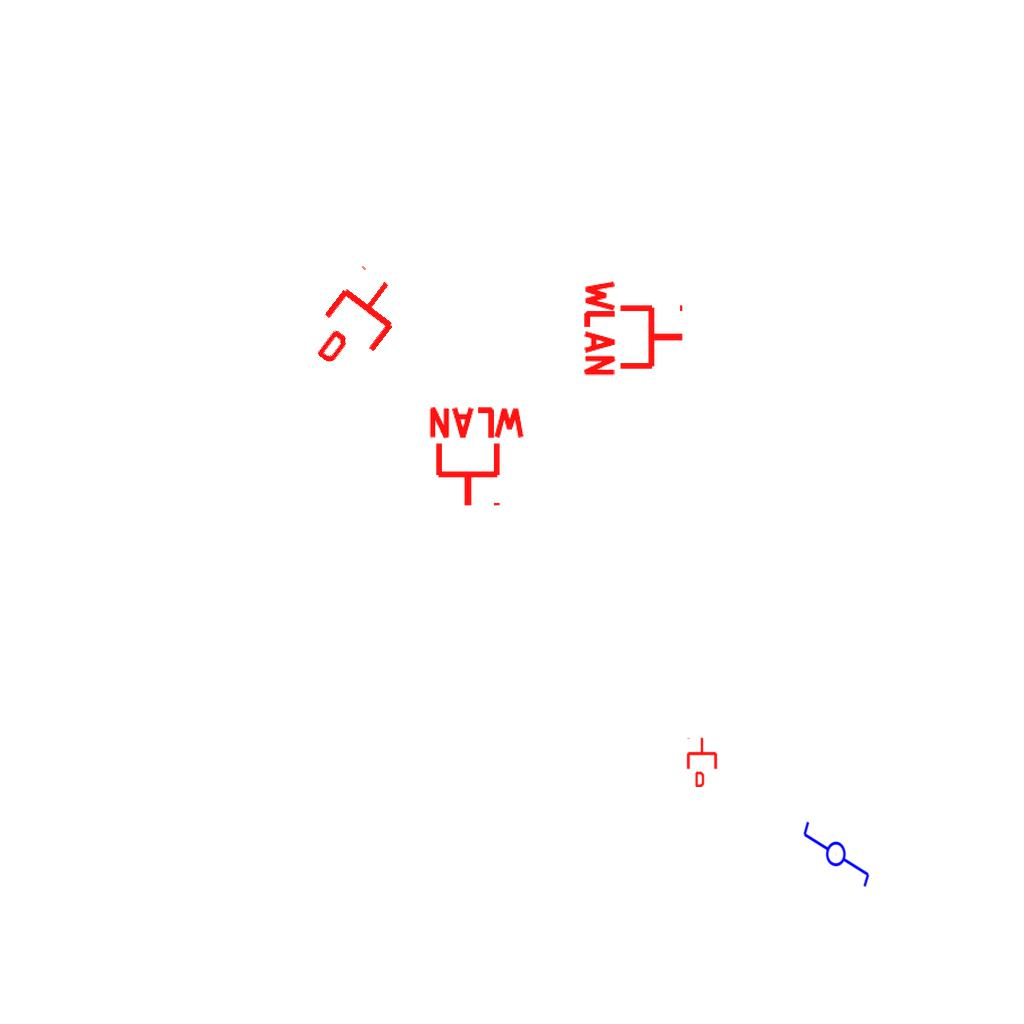Datenanschluss_einfach: (299, 261, 416, 383), (685, 737, 719, 787)
WLAN: (582, 276, 687, 380), (425, 405, 529, 510)
Wechselschalter: (801, 811, 873, 889)
